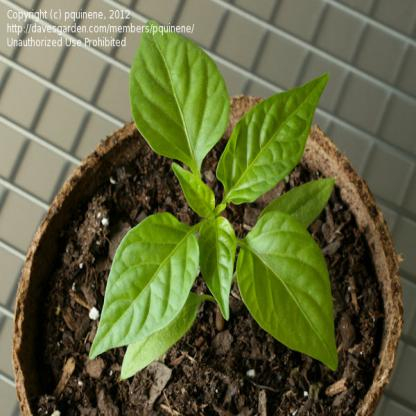Bell_pepper leaf: (234, 211, 340, 375), (84, 212, 201, 358), (214, 74, 331, 207), (128, 16, 231, 167), (198, 216, 236, 324), (168, 161, 218, 220)
